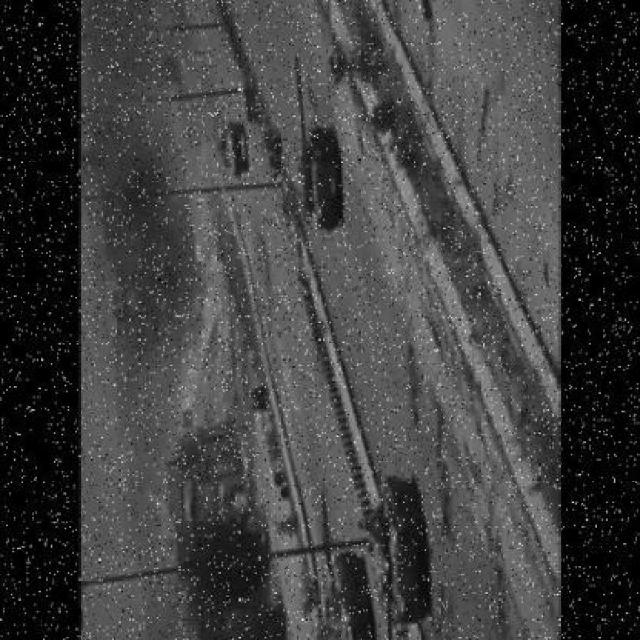Tank: (366, 478, 430, 639), (293, 56, 344, 233), (327, 552, 378, 639), (216, 117, 253, 180)
